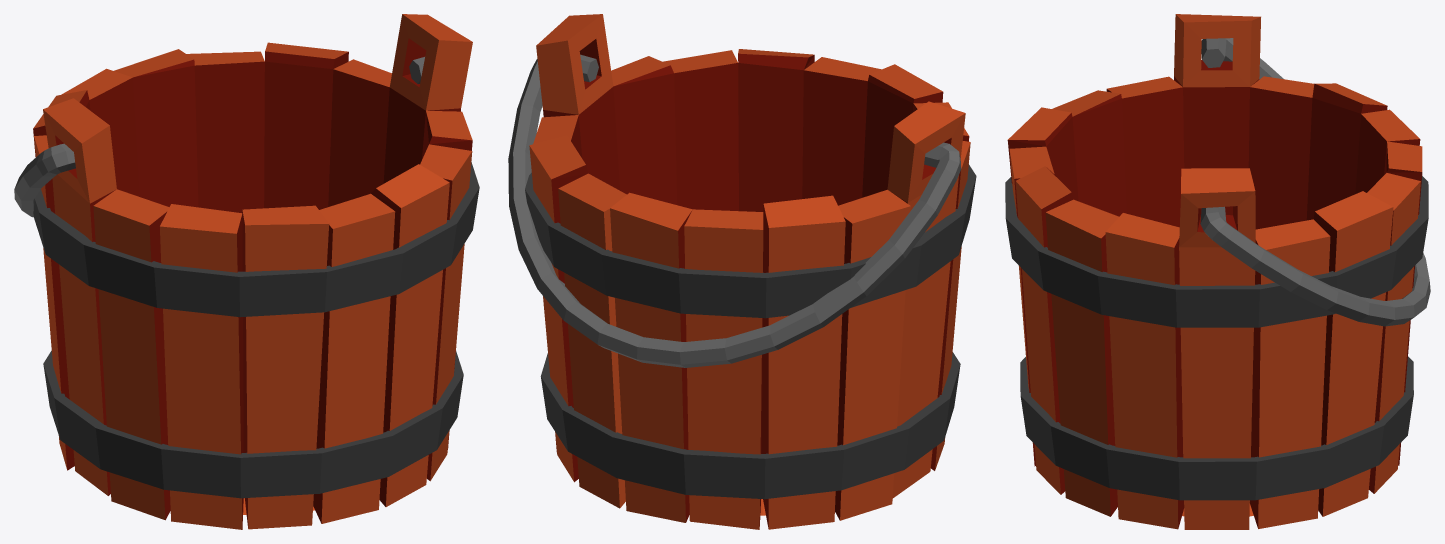
File: winter_castle_item15.glb
The picture shows the model from 3 angles, left to right: view 1: azimuth 30°, elevation 25°; view 2: azimuth 150°, elevation 25°; view 3: azimuth 270°, elevation 25°; orthographic projection. The views are drawn at different scales.
Parts seen in each view (by area): view 1: Item15_Medieval_0; view 2: Item15_Medieval_0; view 3: Item15_Medieval_0.
Boxes of the visible parts, <box> form: Item15_Medieval_0: <box>14,14,479,529</box>; Item15_Medieval_0: <box>508,14,976,529</box>; Item15_Medieval_0: <box>1005,14,1430,529</box>.
Bounding box in the file's own units: 0.278 × 0.2374 × 0.253.
Materials: 1 (1 with a texture image).
